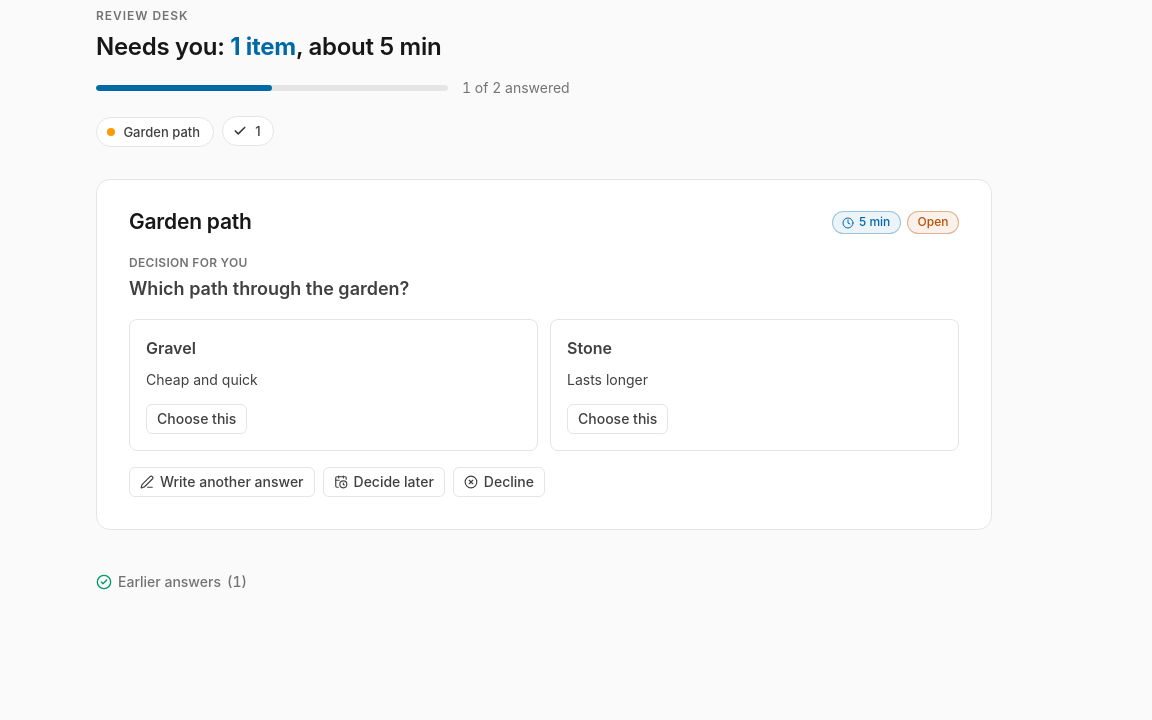
Test: the hand-back prompt › appears when a choice is the last answer, names the agent, and archives in one revision
Click the button with aria-label "Choose Stone". click: [618, 419]
box: [567,404,668,434]
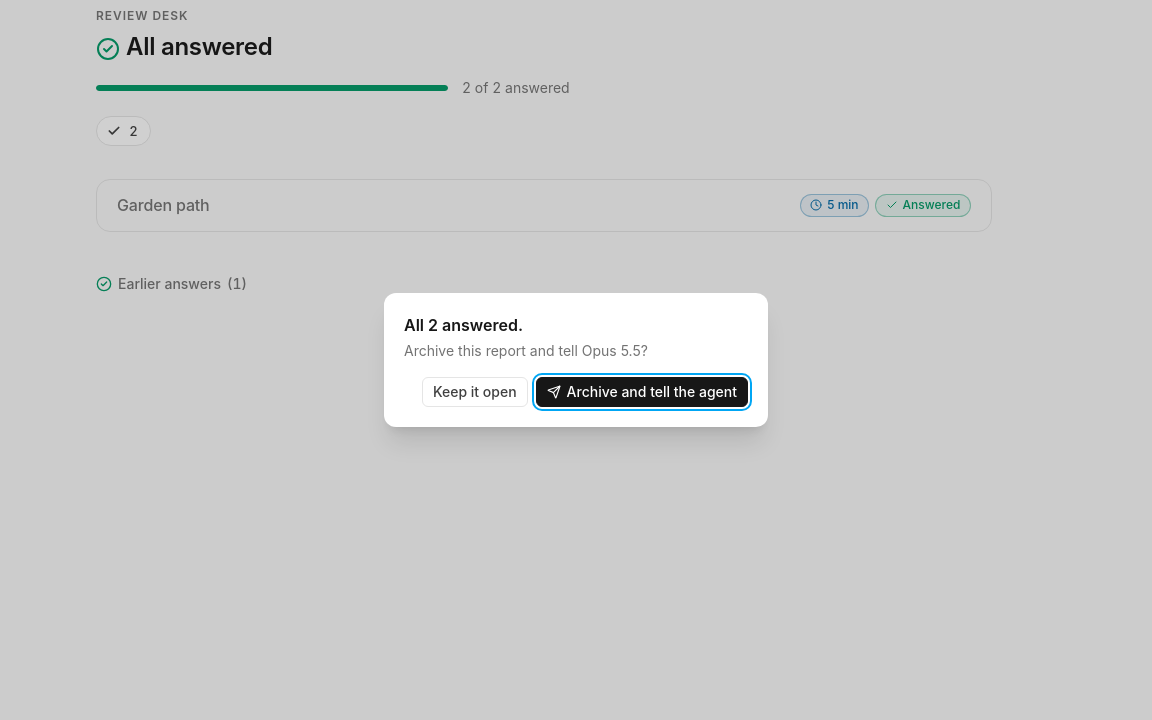
Expected: the text "All 2 answered." is shown, [404,315,523,335]
Expected: the text "Archive this report and tell Opus 5.5?" is shown, [404,342,648,359]
Click the button "Archive and tell the agent". click: [642, 392]
box: [536,377,748,407]
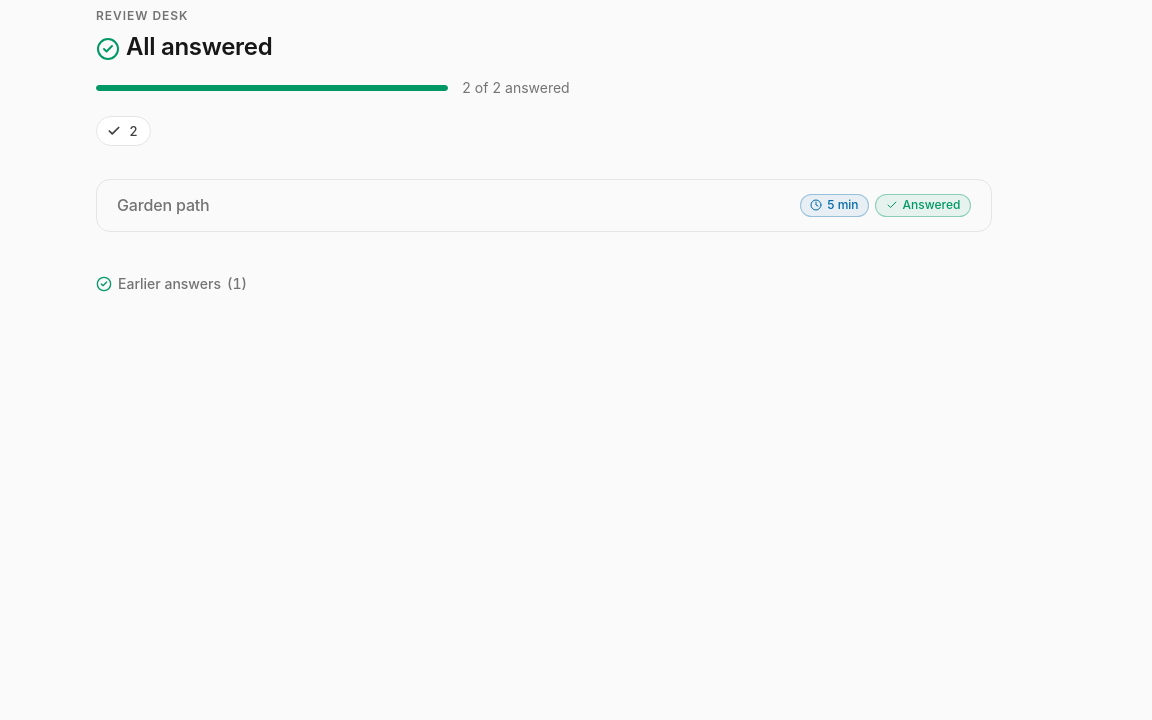
Expected: the dialog is gone
